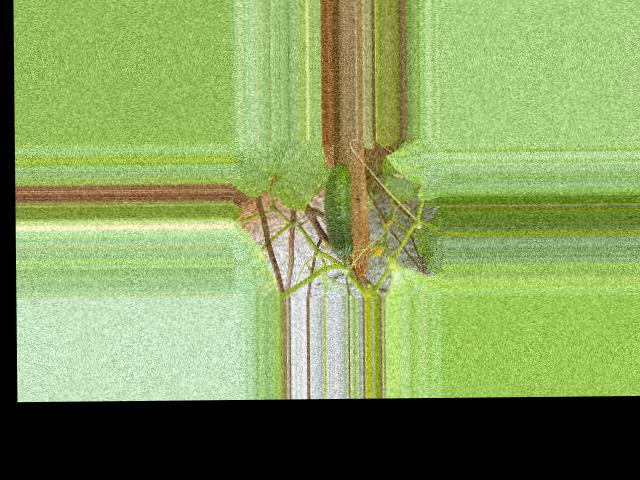cucumber: (324, 162, 354, 257)
